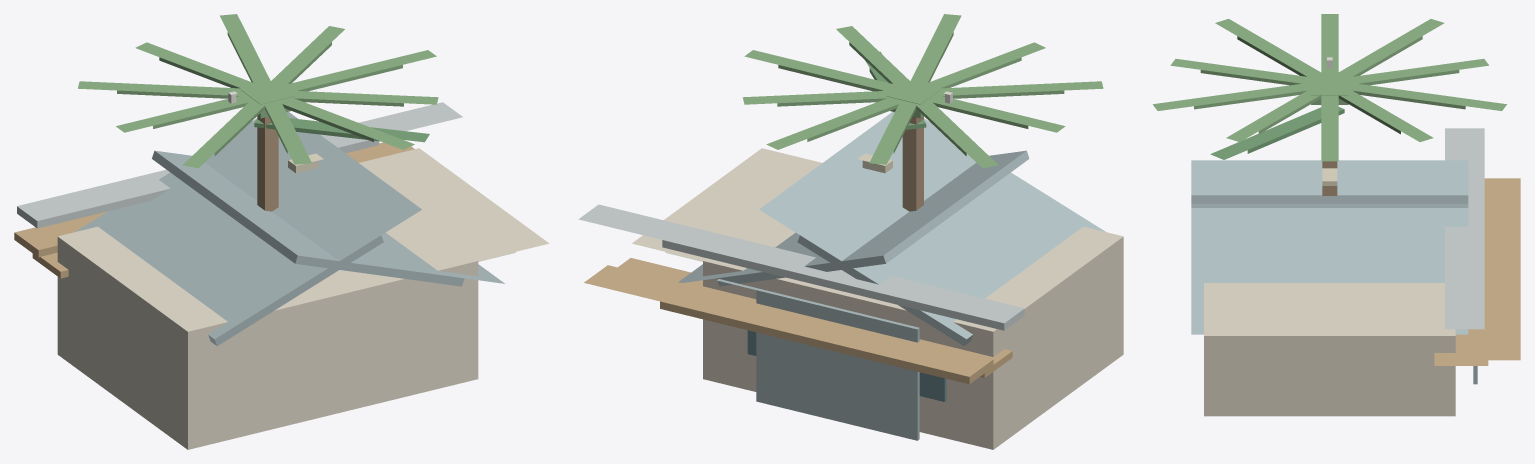
File: pv-kit-v2.gltf
The picture shows the model from 3 angles, left to right: view 1: azimuth 30°, elevation 25°; view 2: azimuth 150°, elevation 25°; view 3: azimuth 270°, elevation 25°; orthographic projection. The views are drawn at different scales.
Visible parts, largest first — view 1: body, roofL, frond (×11), roofR, balconySlab, frontAwning, trunk, crown; view 2: body, roofL, frond (×10), door, frontAwning, balconySlab, roofR, trunk, awning, crown, windowL; view 3: body, roofR, frond (×11), frontAwning, balconySlab, roofL, awning, crown.
Boxes of the visible parts, box(x1,y1,x2,y2) form: body: box(57, 148, 549, 449); roofL: box(75, 112, 421, 346); frond (×11): box(78, 14, 438, 168); roofR: box(152, 150, 504, 286); balconySlab: box(17, 102, 462, 228); frontAwning: box(14, 142, 414, 257); trunk: box(257, 116, 278, 211); crown: box(241, 80, 302, 118); body: box(632, 148, 1123, 449); roofL: box(759, 112, 1105, 345); frond (×10): box(742, 14, 1103, 168); door: box(717, 279, 919, 440); frontAwning: box(584, 265, 993, 384); balconySlab: box(578, 204, 1024, 330); roofR: box(678, 150, 1029, 286); trunk: box(902, 116, 923, 211); awning: box(618, 258, 1012, 377); crown: box(879, 80, 939, 118); windowL: box(919, 372, 946, 401); body: box(1204, 283, 1455, 416); roofR: box(1191, 160, 1468, 334); frond (×11): box(1153, 14, 1506, 161); frontAwning: box(1473, 178, 1520, 360); balconySlab: box(1445, 128, 1484, 329); roofL: box(1191, 195, 1468, 207); awning: box(1434, 329, 1488, 365); crown: box(1311, 75, 1348, 104).
Bounding box in the file's own units: 13.21 × 8.36 × 10.23.
